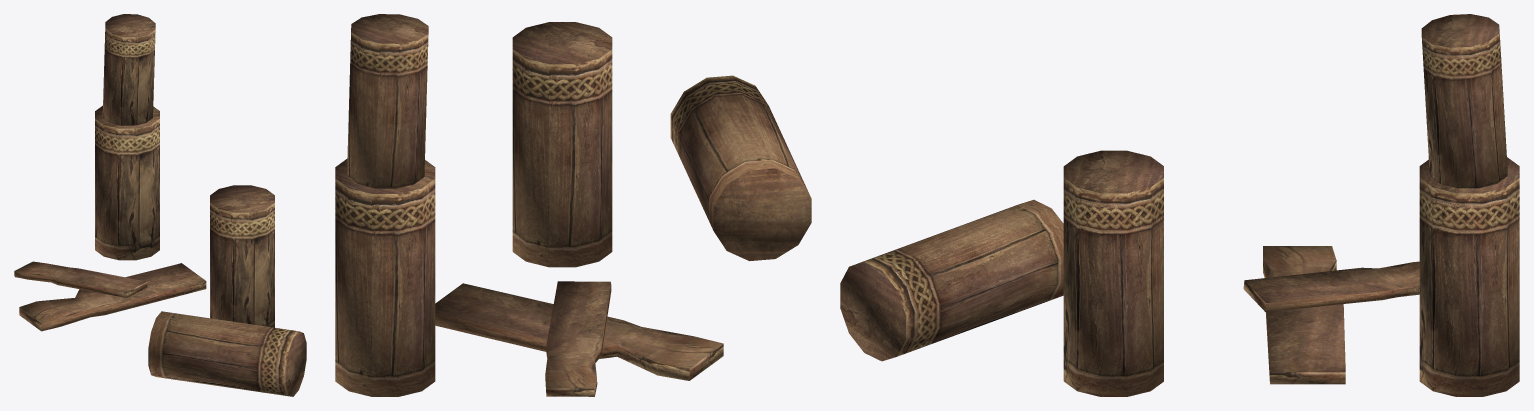
Rendered from ruin_wood.obj.
3 renders of one model, left to right at view 1: azimuth 30°, elevation 25°; view 2: azimuth 150°, elevation 25°; view 3: azimuth 270°, elevation 25°, orthographic. The views are drawn at different scales.
Visible parts, largest first — view 1: Frame 1; view 2: Frame 1; view 3: Frame 1.
Part boxes in pixels (x1=…): Frame 1: x1=14, y1=14, x2=306, y2=396; Frame 1: x1=335, y1=14, x2=811, y2=396; Frame 1: x1=840, y1=14, x2=1519, y2=396.
Bounding box in the file's own units: 141 × 167 × 296.
1 material, 1 textured.
